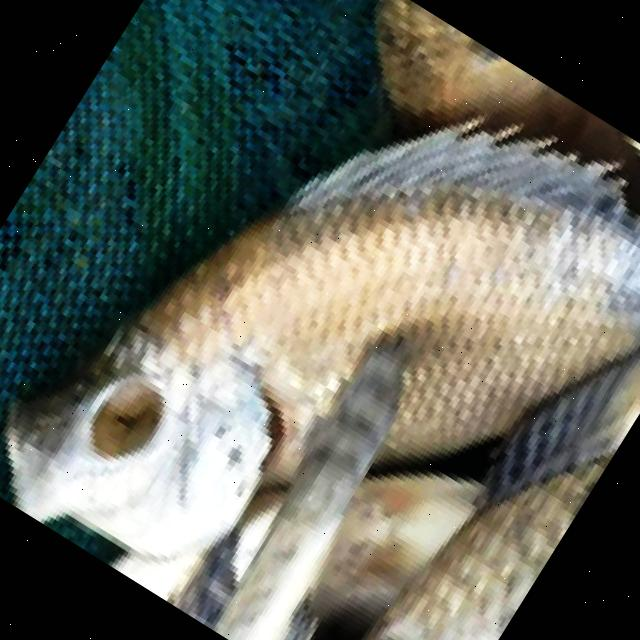Columnaris Disease: (6, 125, 640, 558)
